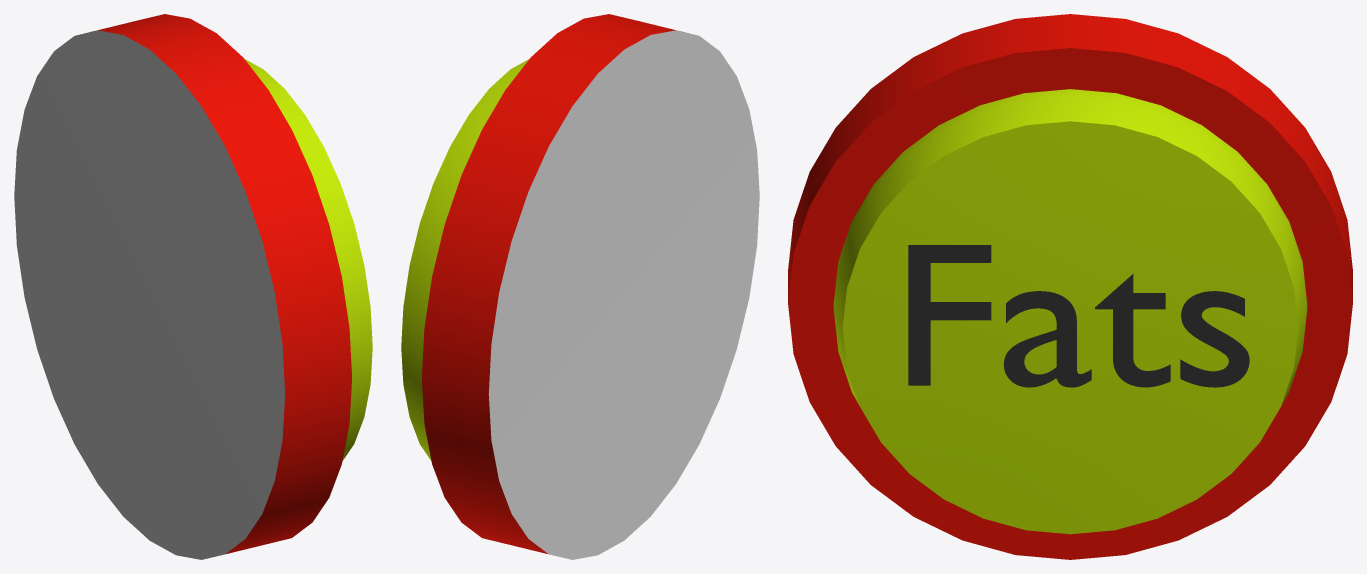
The model's file is fat button.gltf.
The picture shows the model from 3 angles, left to right: view 1: azimuth 30°, elevation 25°; view 2: azimuth 150°, elevation 25°; view 3: azimuth 270°, elevation 25°; orthographic projection. The views are drawn at different scales.
Parts seen in each view (by area): view 1: Cylinder; view 2: Cylinder; view 3: Cylinder, Text.
Boxes of the visible parts, box(x1,y1,x2,y2) form: Cylinder: box(14, 14, 372, 559); Cylinder: box(401, 14, 759, 559); Cylinder: box(788, 14, 1352, 559); Text: box(908, 245, 1249, 387).
Size of the model in its own units: 1.19 by 4.69 by 4.69.
